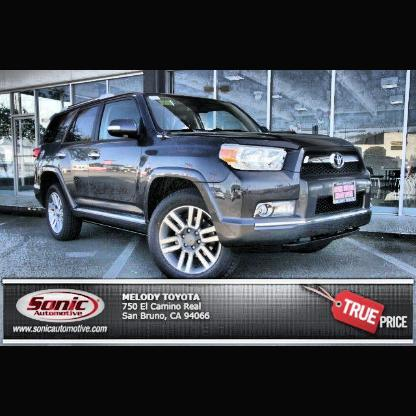Toyota 4Runner SUV 2012: (34, 90, 372, 283)
